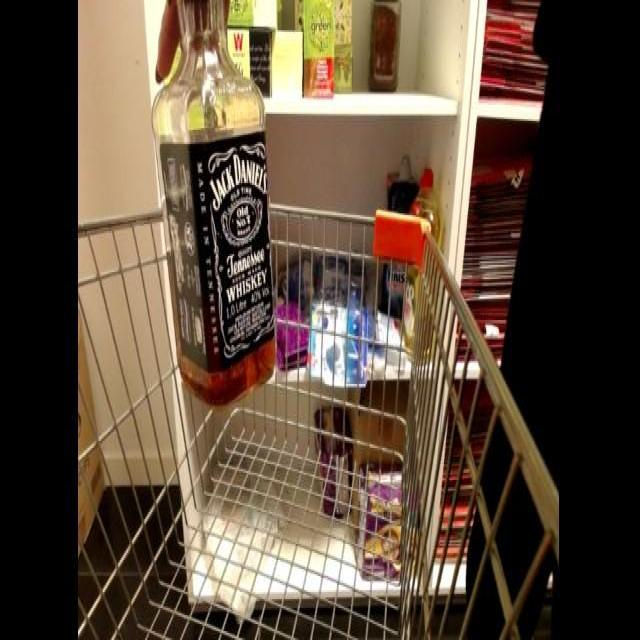Jack Daniels: (148, 0, 278, 418)
